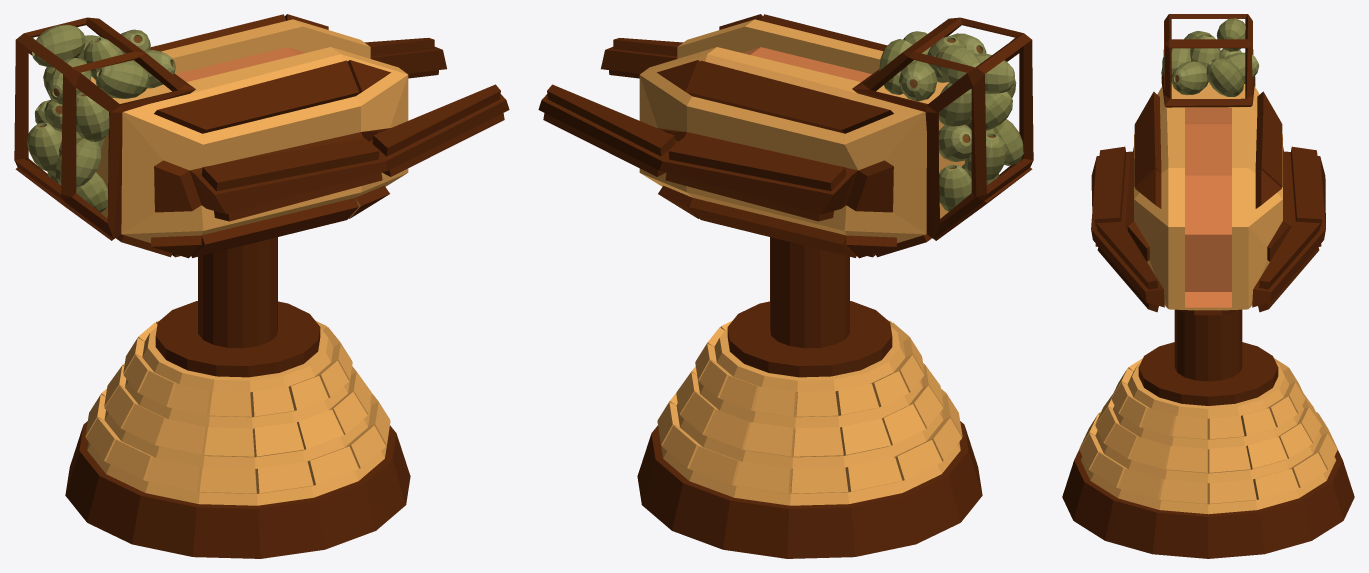
File: ZeytinAtarSv3Model.fbx
3 views of the same model, side by side, from view 1: azimuth 30°, elevation 25°; view 2: azimuth 150°, elevation 25°; view 3: azimuth 270°, elevation 25° (orthographic). The views are drawn at different scales.
Visible parts, largest first — view 1: Cube.103, parentli kurdanatar.015; view 2: Cube.103, parentli kurdanatar.015; view 3: parentli kurdanatar.015, Cube.103.
Part boxes in pixels (x1,y1,x2,y2): Cube.103: [14, 14, 509, 258]; parentli kurdanatar.015: [65, 237, 410, 558]; Cube.103: [538, 14, 1033, 258]; parentli kurdanatar.015: [637, 237, 982, 558]; parentli kurdanatar.015: [1062, 309, 1354, 558]; Cube.103: [1091, 14, 1325, 315].
Size of the model in its own units: 290 by 309 by 200.
3 materials, 3 textured.
